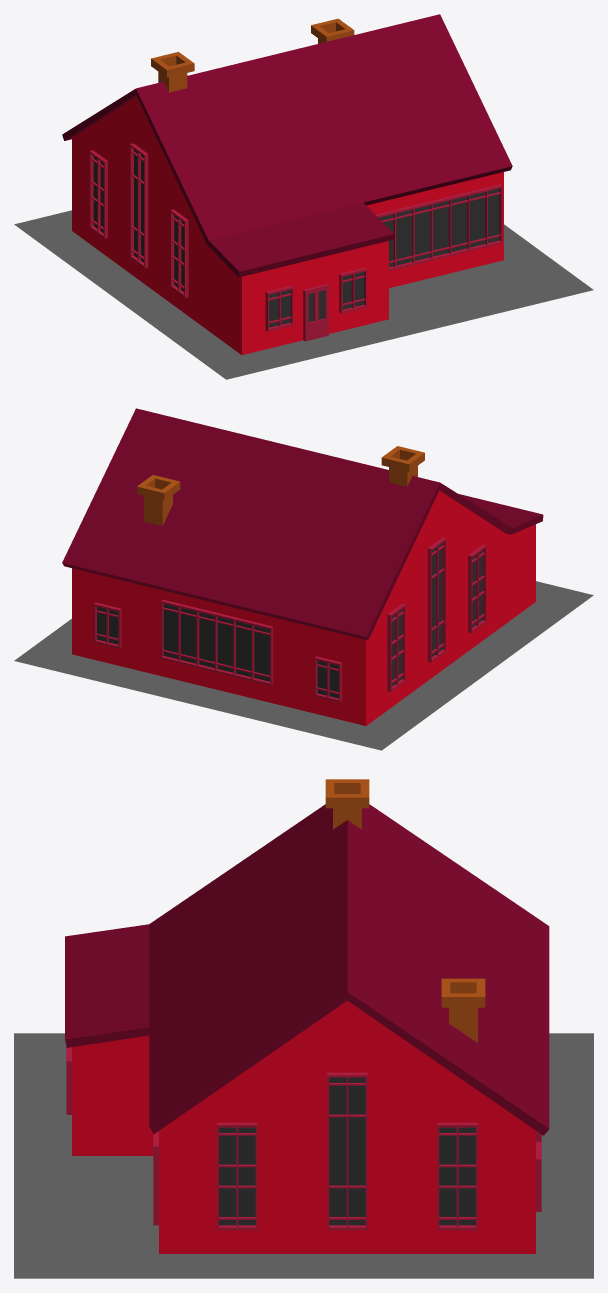
File: house_08.fbx
3 renders of one model, top to bottom at view 1: azimuth 30°, elevation 25°; view 2: azimuth 150°, elevation 25°; view 3: azimuth 270°, elevation 25°, orthographic. The views are drawn at different scales.
Parts seen in each view (by area): view 1: house_08; view 2: house_08; view 3: house_08.
Boxes of the visible parts, x1,y1,x2,y2 form: house_08: [14, 14, 593, 379]; house_08: [14, 408, 593, 750]; house_08: [14, 779, 593, 1278].
Bounding box in the file's own units: 20 × 11.06 × 20.
